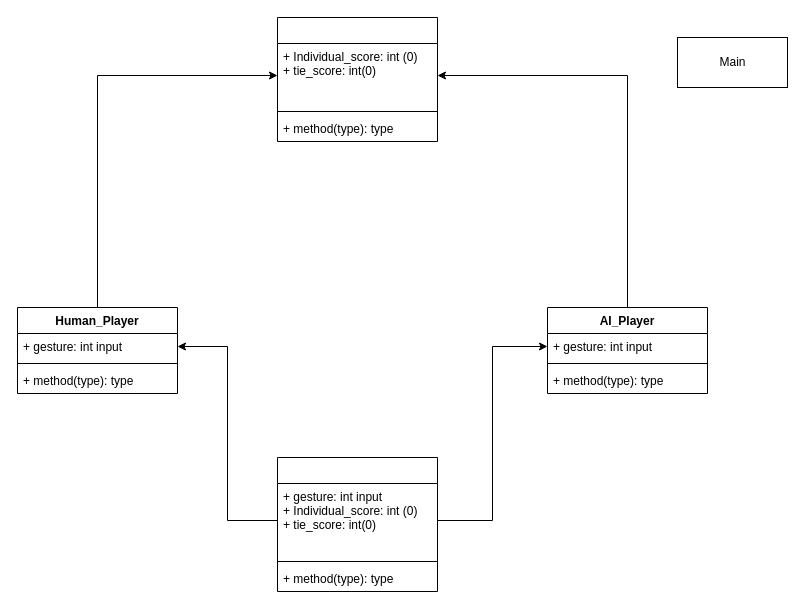
This 805x612 diagram has some shape labels left out. Here are the shapes that lost their labels. From the top down, the box of each, then its label:
(276, 16, 438, 142): Battlefield
(276, 456, 438, 592): Player
